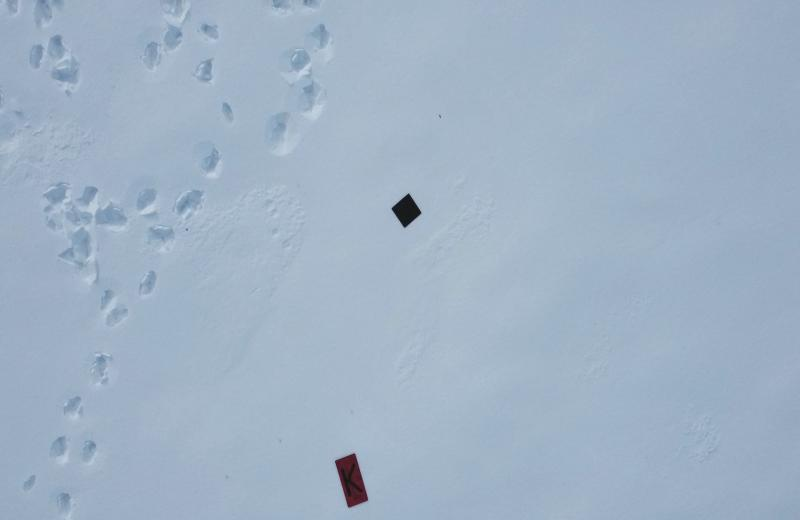Rectangle: (336, 454, 370, 508)
Square: (391, 192, 423, 230)
